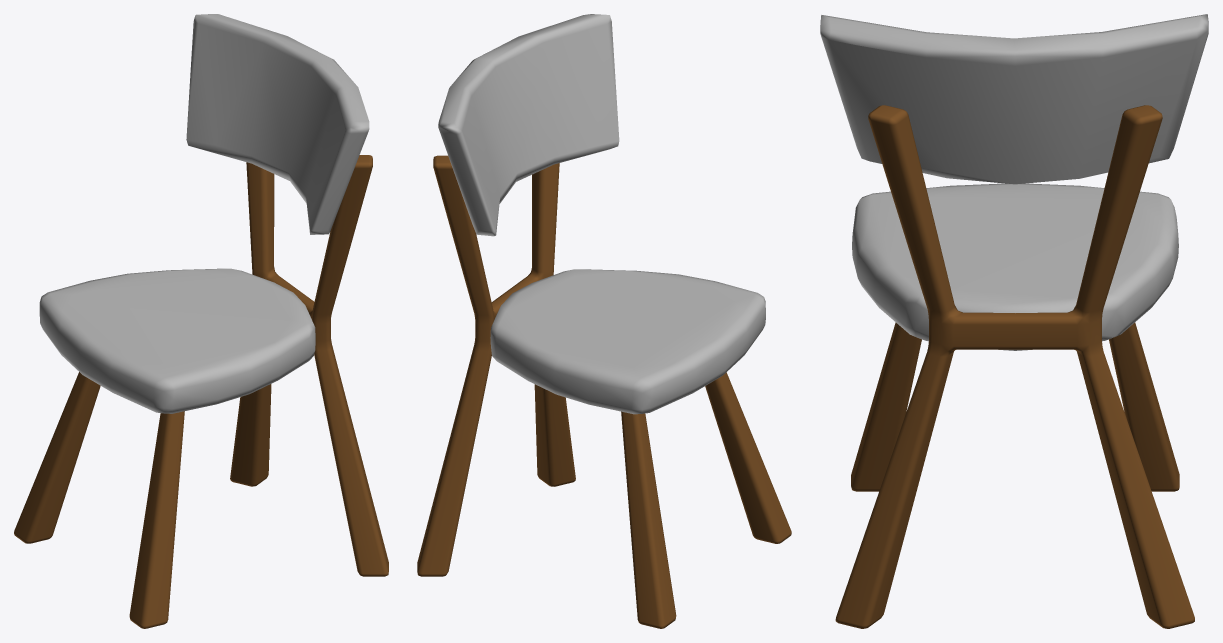
The model's file is chair_03_white.fbx.
The picture shows the model from 3 angles, left to right: view 1: azimuth 30°, elevation 25°; view 2: azimuth 150°, elevation 25°; view 3: azimuth 270°, elevation 25°; orthographic projection. The views are drawn at different scales.
Visible parts, largest first — view 1: chair_03_white; view 2: chair_03_white; view 3: chair_03_white.
Part boxes in pixels (box(x1,y1,x2,y2)): chair_03_white: box(14, 14, 388, 628); chair_03_white: box(417, 14, 791, 628); chair_03_white: box(820, 14, 1208, 628).
Bounding box in the file's own units: 58.11 × 101 × 60.72.
Materials: 1 (1 with a texture image).
